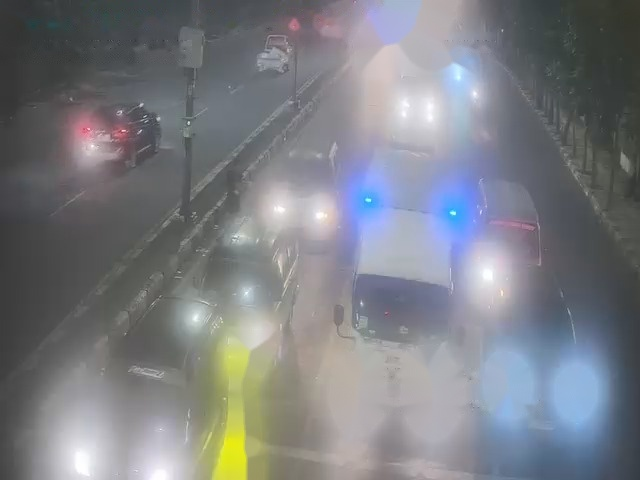Mobil: (91, 294, 237, 480), (191, 210, 294, 365), (492, 264, 592, 411), (465, 175, 545, 287), (270, 134, 344, 234), (85, 94, 161, 166)
Truk: (344, 130, 459, 412)
